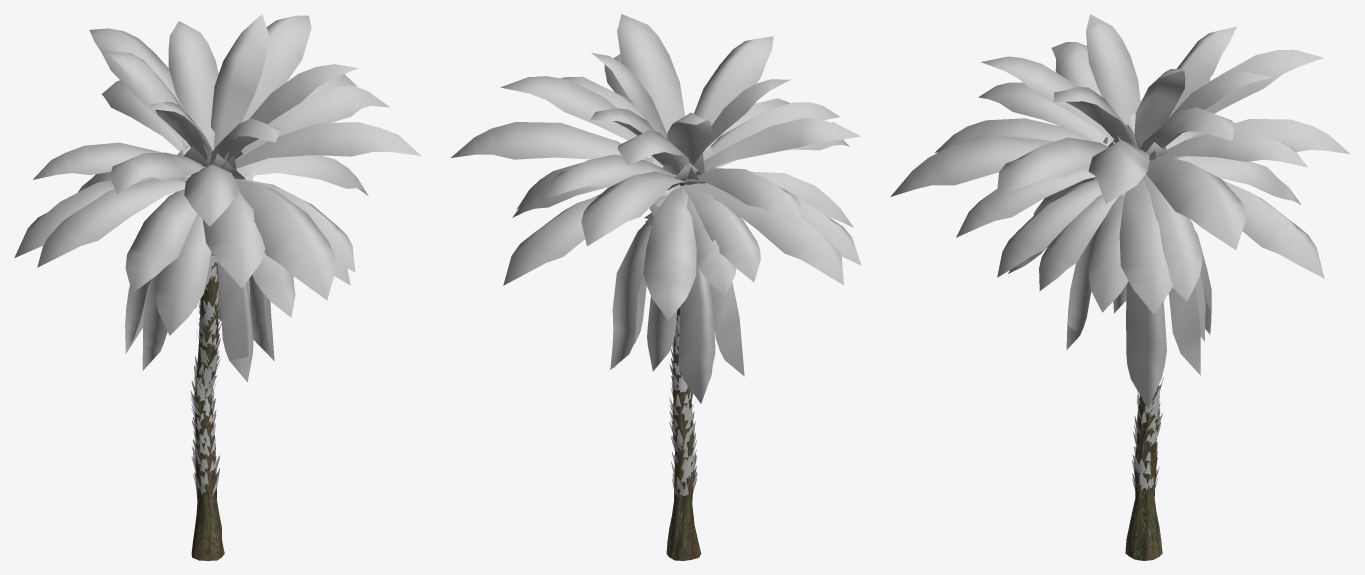
The model's file is Tree_07_1_L1.fbx.
3 views of the same model, side by side, from view 1: azimuth 30°, elevation 25°; view 2: azimuth 150°, elevation 25°; view 3: azimuth 270°, elevation 25° (orthographic). The views are drawn at different scales.
Parts seen in each view (by area): view 1: polySurface15; view 2: polySurface15; view 3: polySurface15.
Part boxes in pixels (bbox=[...]): polySurface15: bbox=[14, 14, 421, 560]; polySurface15: bbox=[451, 14, 861, 560]; polySurface15: bbox=[890, 14, 1350, 560].
Bounding box in the file's own units: 730 × 952 × 763.
